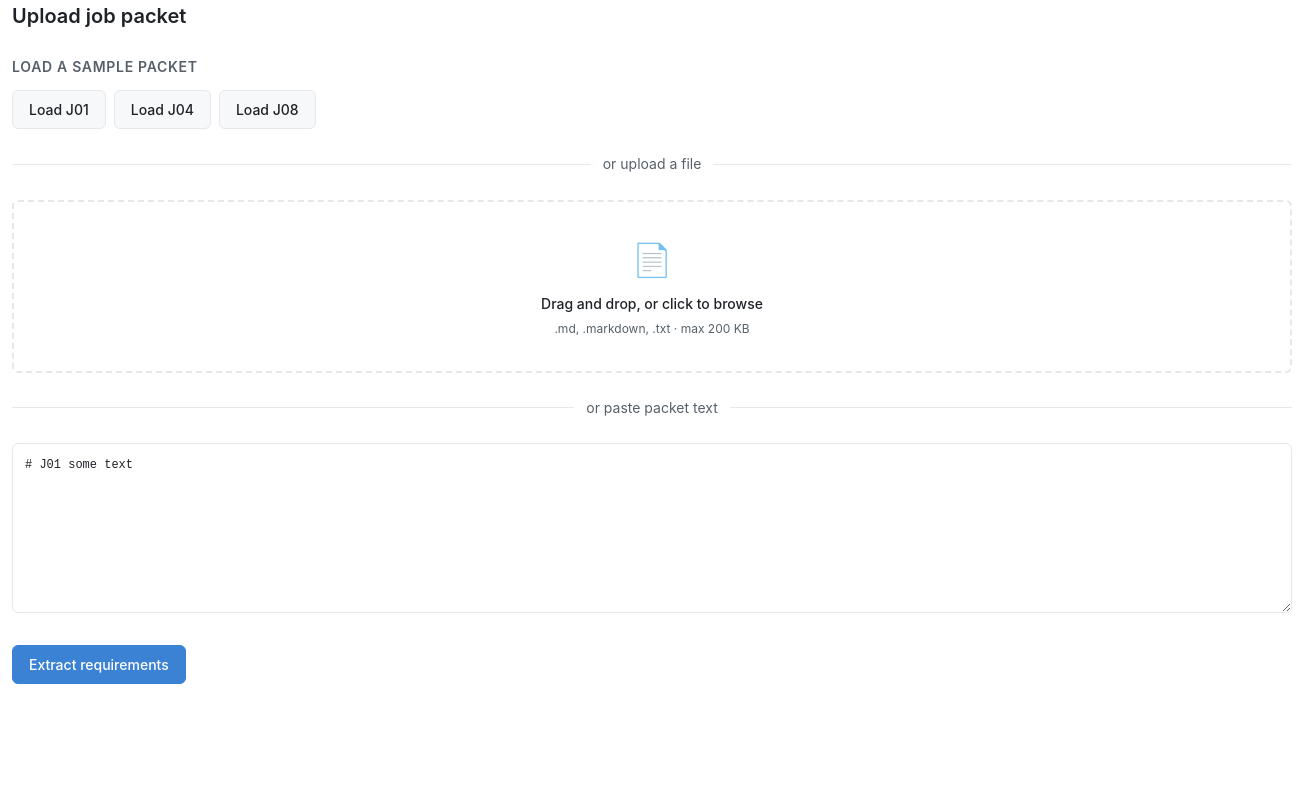
Test: UploadScreen › shows timeout message for timeout errors
Click the button "Extract requirements" at (99, 664), box [12, 644, 186, 684]
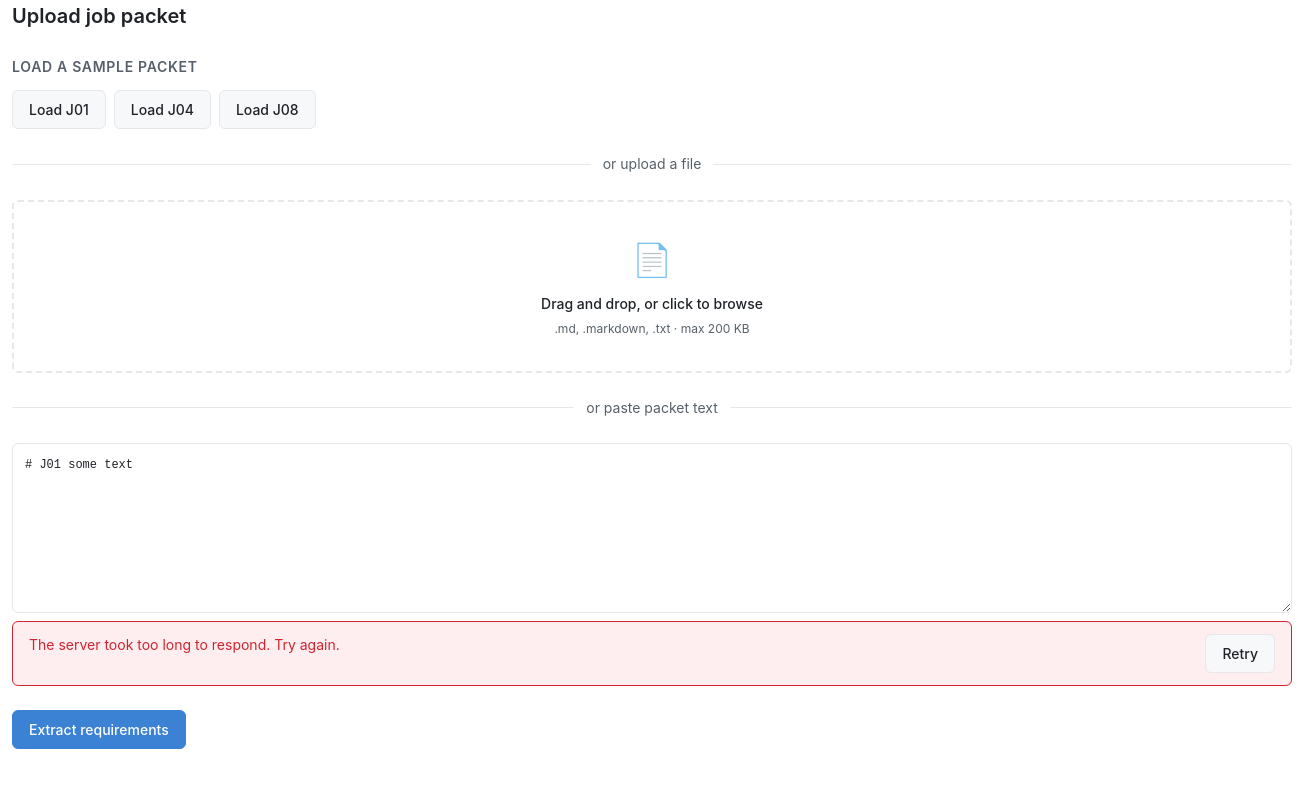
Expected: the text "The server took too long to respond. Try again." is shown, [29, 636, 340, 652]
